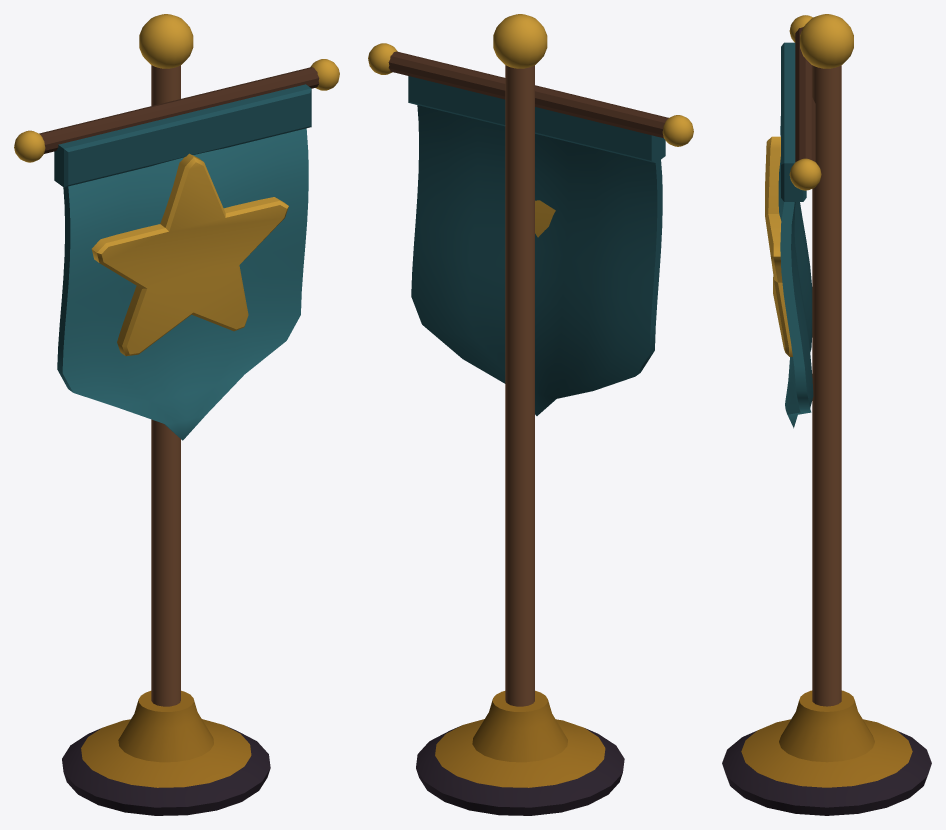
Rendered from Banner_13.glb.
3 views of the same model, side by side, from view 1: azimuth 30°, elevation 25°; view 2: azimuth 150°, elevation 25°; view 3: azimuth 270°, elevation 25° (orthographic).
Parts seen in each view (by area): view 1: Banner_13; view 2: Banner_13; view 3: Banner_13.
Boxes of the visible parts, <box> form: Banner_13: <box>14,14,339,815</box>; Banner_13: <box>368,14,693,815</box>; Banner_13: <box>722,14,931,815</box>.
Size of the model in its own units: 3.47 by 7.79 by 1.96.
